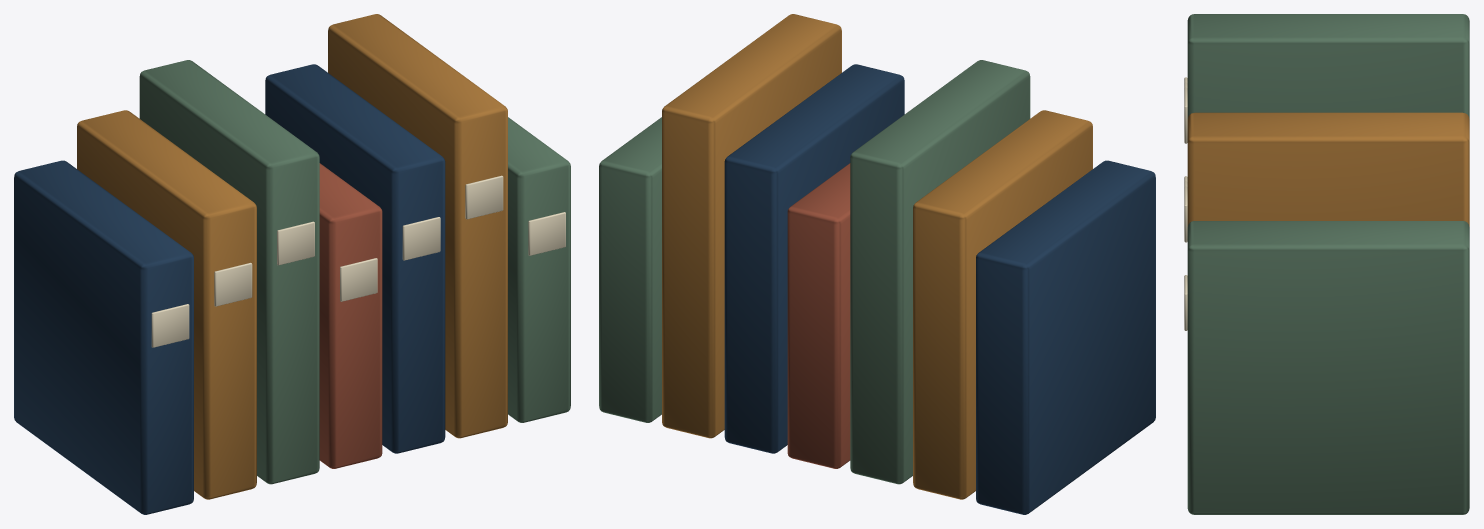
Rendered from urban-upright-books-v1.glb.
3 views of the same model, side by side, from view 1: azimuth 30°, elevation 25°; view 2: azimuth 150°, elevation 25°; view 3: azimuth 270°, elevation 25° (orthographic). The views are drawn at different scales.
Visible parts, largest first — view 1: Standing cover, Standing cover.002, Standing cover.005, Standing cover.001, Standing cover.004, Standing cover.003, Standing cover.006, Spine label.004, Spine label.005, Spine label, Spine label.001, Spine label.003 (+2 smaller); view 2: Standing cover, Standing cover.002, Standing cover.005, Standing cover.001, Standing cover.004, Standing cover.003, Standing cover.006; view 3: Standing cover.006, Standing cover.005, Standing cover.002.
Part boxes in pixels (<box>): Standing cover: <box>14,160,193,514</box>; Standing cover.002: <box>139,60,319,484</box>; Standing cover.005: <box>328,14,507,438</box>; Standing cover.001: <box>77,110,256,499</box>; Standing cover.004: <box>265,64,445,453</box>; Standing cover.003: <box>319,163,382,468</box>; Standing cover.006: <box>508,117,570,422</box>; Spine label.004: <box>402,217,440,260</box>; Spine label.005: <box>465,175,503,219</box>; Spine label: <box>151,304,189,347</box>; Spine label.001: <box>214,262,252,306</box>; Spine label.003: <box>340,258,377,301</box>; Standing cover: <box>976,160,1155,514</box>; Standing cover.002: <box>850,60,1030,484</box>; Standing cover.005: <box>662,14,841,438</box>; Standing cover.001: <box>913,110,1092,499</box>; Standing cover.004: <box>724,64,904,453</box>; Standing cover.003: <box>787,163,850,468</box>; Standing cover.006: <box>599,117,661,422</box>; Standing cover.006: <box>1187,221,1469,514</box>; Standing cover.005: <box>1187,112,1469,226</box>; Standing cover.002: <box>1187,14,1469,118</box>.
Bounding box in the file's own units: 0.322 × 0.23 × 0.172.
Materials: 5 (5 with a texture image).
